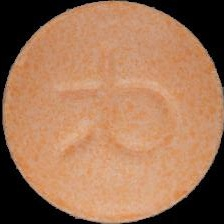53808-0231: (0, 0, 224, 224)
